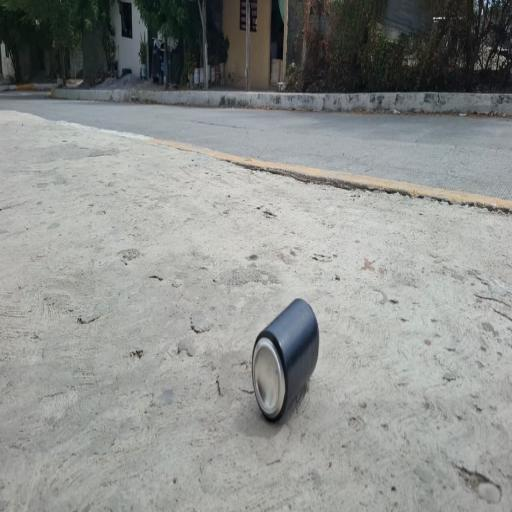LATA: (246, 282, 328, 438)
